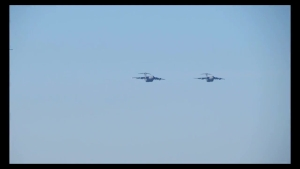flight: (131, 71, 166, 82), (193, 72, 224, 83)
